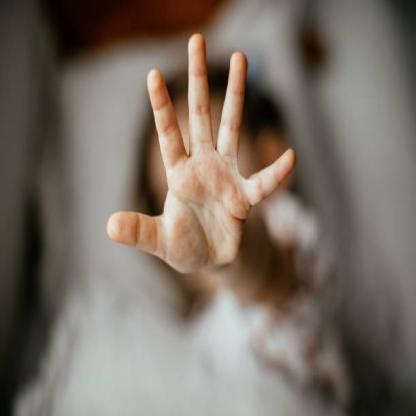stop: (103, 29, 299, 285)
